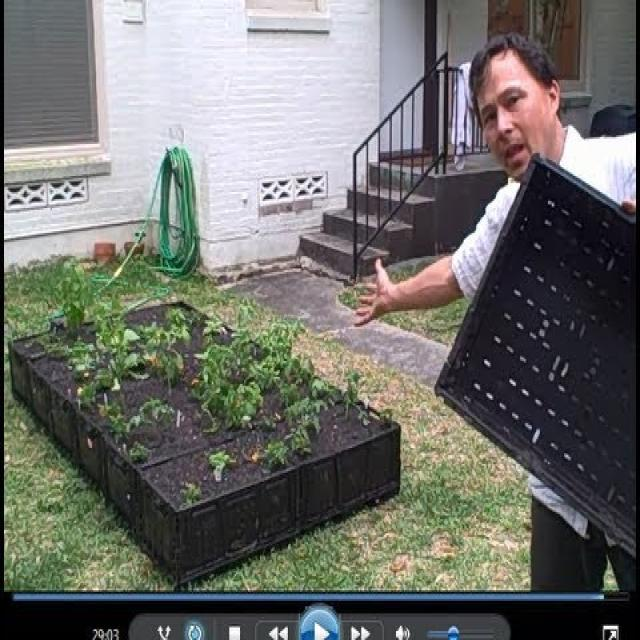basket: (0, 339, 414, 627), (435, 158, 638, 556)
